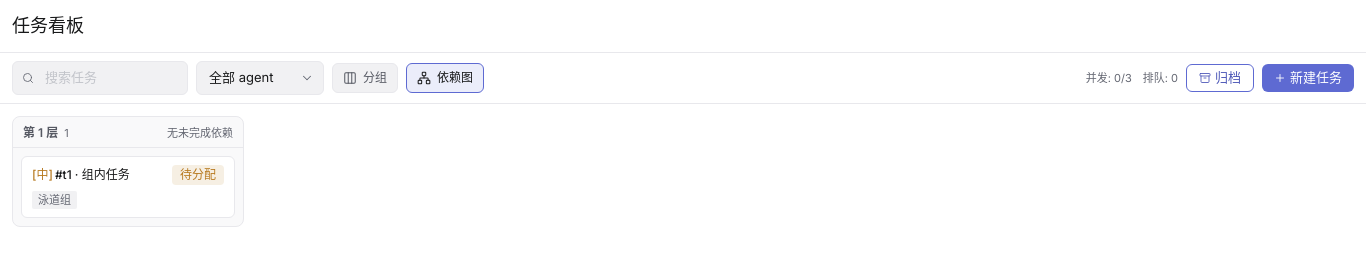
Scenario: TaskBoardView 主区（看板重构 Task 11） › dag 视图中点「分组」→ 进泳道模式（不回退 dag）；localStorage 记 lanes
Expected: the element with test id "dag-board" is shown, [12,116,244,227]
Click the button "分组" at coordinates (365, 78), box [332,63,398,93]
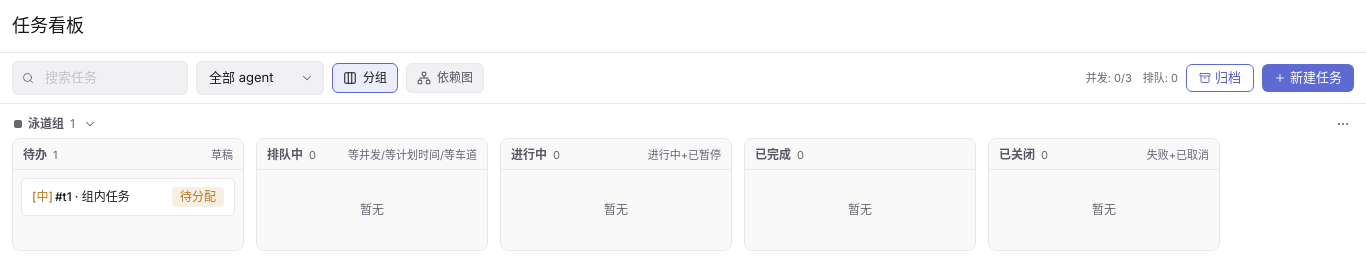
Expected: the heading "泳道组 1" is shown, [14,116,75,132]
Expected: the element with test id "dag-board" is gone
